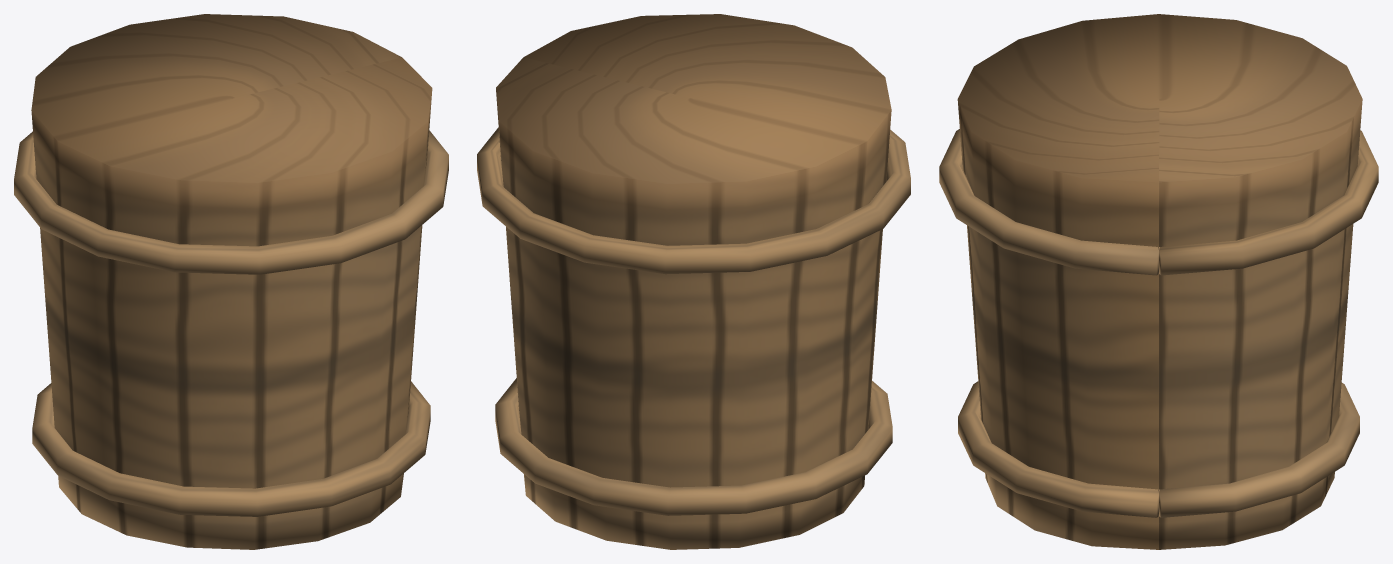
File: bucket.glb
3 renders of one model, left to right at view 1: azimuth 30°, elevation 25°; view 2: azimuth 150°, elevation 25°; view 3: azimuth 270°, elevation 25°, orthographic.
Parts seen in each view (by area): view 1: bucket_LOD0; view 2: bucket_LOD0; view 3: bucket_LOD0.
Part boxes in pixels (x1,y1,x2,y2): bucket_LOD0: (14,14,448,549); bucket_LOD0: (477,14,910,549); bucket_LOD0: (939,14,1378,549).
Size of what is drawn, in the model's own units: 0.2875 by 0.276 by 0.2876.
Materials: 1 (1 with a texture image).
